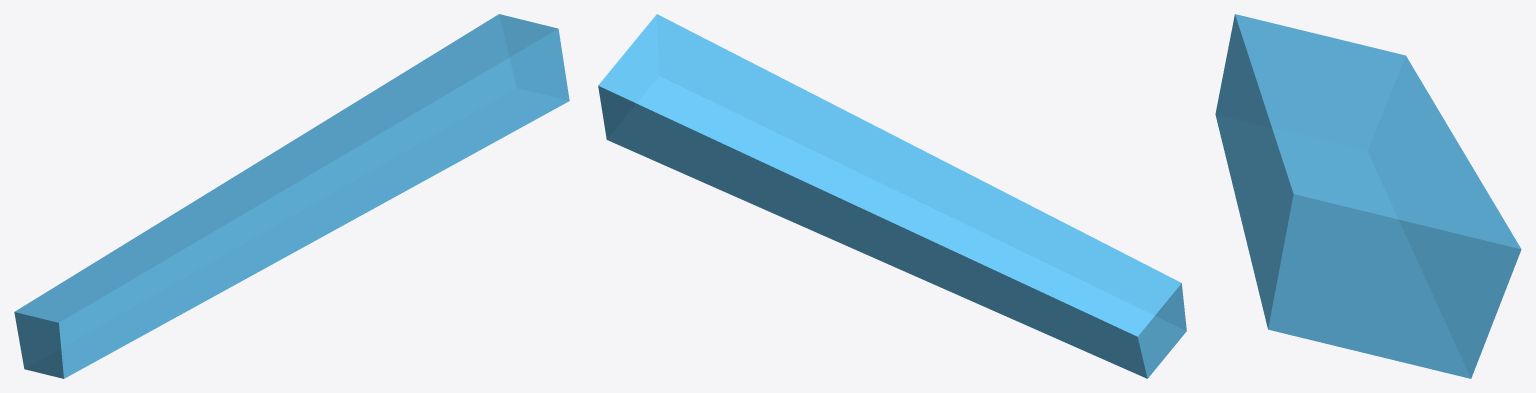
Rendered from Event_421115418_HErechit_48.fbx.
3 renders of one model, left to right at view 1: azimuth 30°, elevation 25°; view 2: azimuth 150°, elevation 25°; view 3: azimuth 270°, elevation 25°, orthographic. The views are drawn at different scales.
Visible parts, largest first — view 1: Model; view 2: Model; view 3: Model.
Boxes of the visible parts, x1=… form: Model: x1=14, y1=14, x2=569, y2=378; Model: x1=598, y1=14, x2=1186, y2=378; Model: x1=1215, y1=14, x2=1521, y2=378.
Size of the model in its own units: 3.41 by 1.44 by 0.9092.
